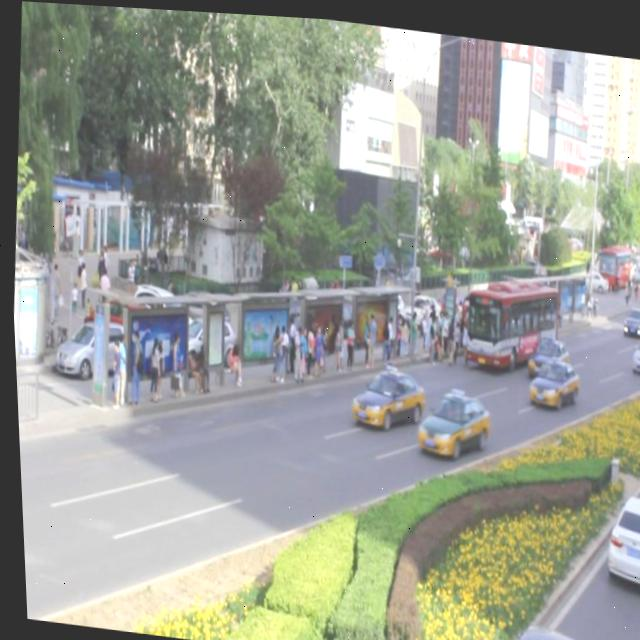car: (409, 378, 490, 455), (344, 357, 423, 429), (521, 345, 577, 403), (522, 326, 566, 372), (625, 324, 640, 367)
van: (456, 263, 559, 369)
